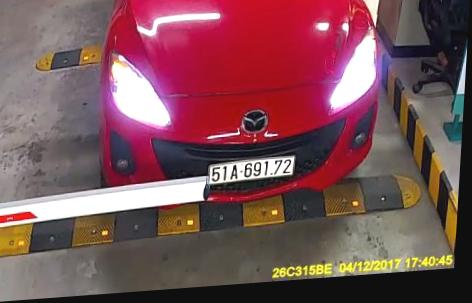License_Plate: (204, 152, 295, 186)
